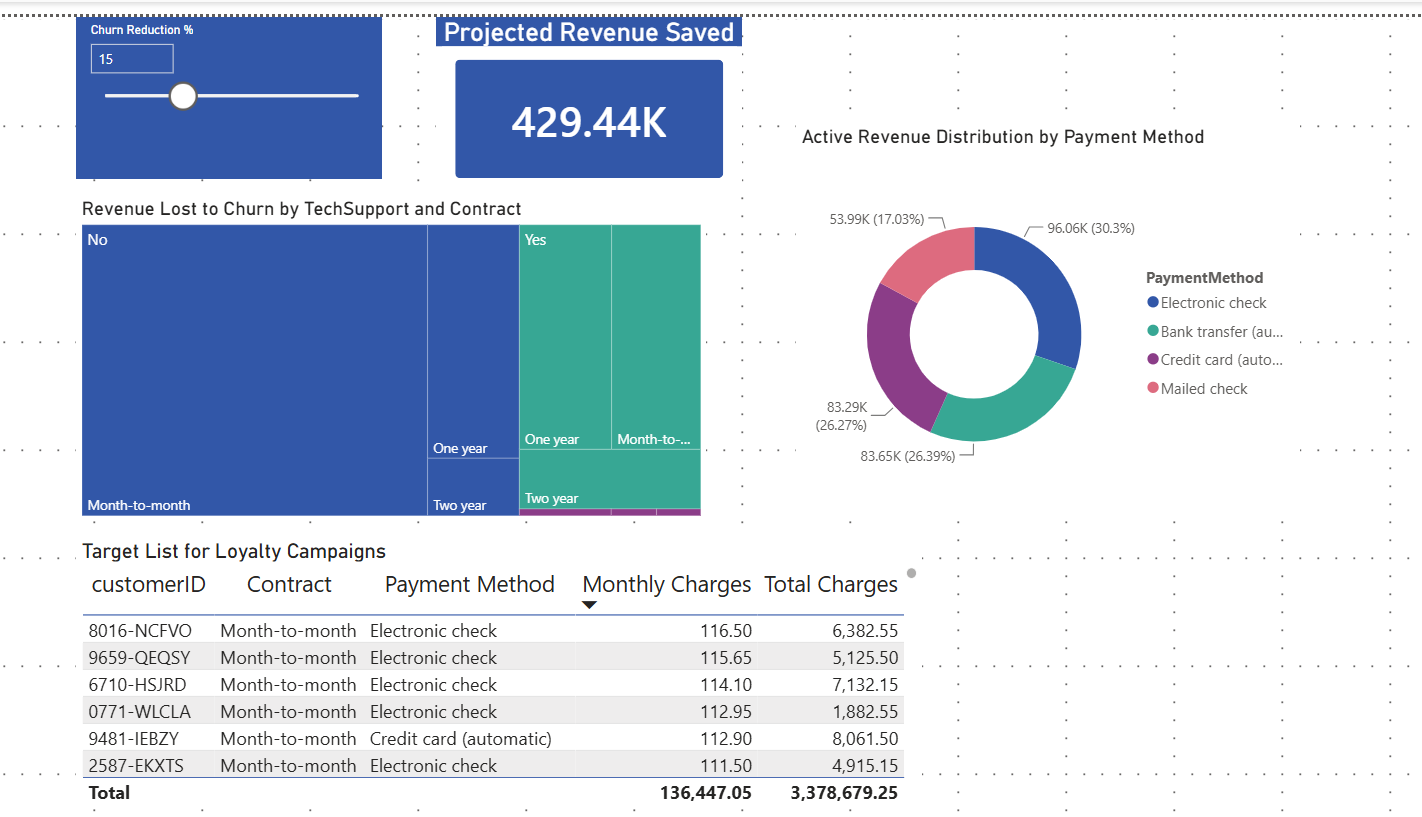

This screenshot's page, from the dashboard's own definition file:
{"tool":"powerbi","page":{"name":"Revenue Optimization","canvas":[1280,720],"ordinal":3},"visuals":[{"type":"slicer","fields":{"Values":["Churn Reduction %.Churn Reduction %"]},"box":[80,0,272,144],"z":0},{"type":"cardVisual","title":"Projected Revenue Saved","fields":{"Data":["Customer_churn.Projected Revenue Saved"]},"box":[400,0,272,160],"z":1000},{"type":"treemap","fields":{"Values":["Customer_churn.Revenue Lost to Churn"],"Group":["Customer_churn.TechSupport"],"Details":["Customer_churn.Contract"]},"box":[80,160,560,288],"z":2000},{"type":"tableEx","title":"Target List for Loyalty Campaigns","fields":{"Values":["Customer_churn.customerID","Customer_churn.Contract","Customer_churn.PaymentMethod","Sum(Customer_churn.MonthlyCharges)","Sum(Customer_churn.TotalCharges)"]},"box":[80,464,752,240],"z":3000},{"type":"donutChart","title":"Active Revenue Distribution by Payment Method","fields":{"Category":["Customer_churn.PaymentMethod"],"Y":["Sum(Customer_churn.MonthlyCharges)"]},"box":[720,96,448,352],"z":3001}]}

Visuals, with their boxes in screenshot pixels (x1, y1, x2, y2), scaled from the page's 1280x720 canvas onto the 1422x817 screenshot:
slicer - Churn Reduction %.Churn Reduction %: (x1=89, y1=0, x2=391, y2=163)
"Projected Revenue Saved" cardVisual: (x1=444, y1=0, x2=747, y2=182)
treemap - Customer_churn.Revenue Lost to Churn x Customer_churn.TechSupport: (x1=89, y1=182, x2=711, y2=508)
"Target List for Loyalty Campaigns" tableEx: (x1=89, y1=527, x2=924, y2=799)
"Active Revenue Distribution by Payment Method" donutChart: (x1=800, y1=109, x2=1298, y2=508)
